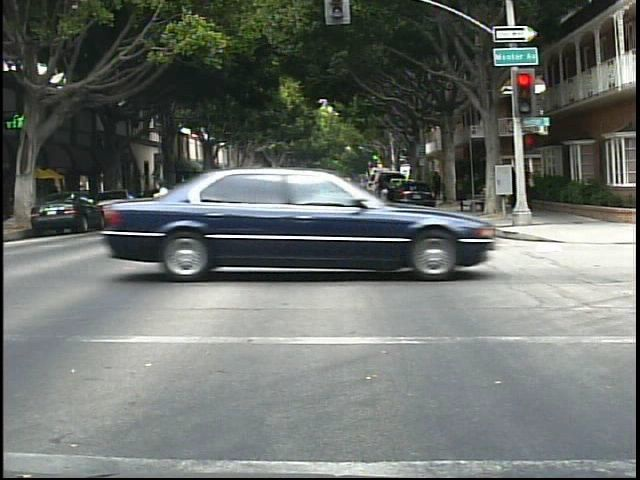person: (146, 172, 186, 242), (378, 172, 396, 207), (433, 169, 445, 199)
